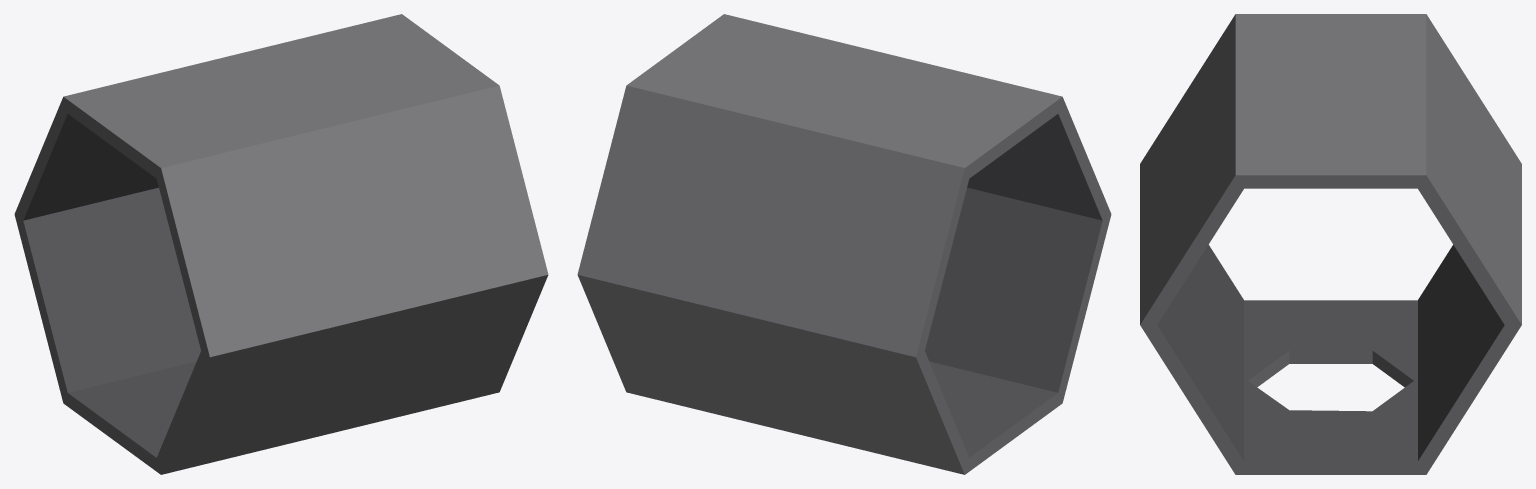
File: Tubo caida.fbx
3 renders of one model, left to right at view 1: azimuth 30°, elevation 25°; view 2: azimuth 150°, elevation 25°; view 3: azimuth 270°, elevation 25°, orthographic. The views are drawn at different scales.
Visible parts, largest first — view 1: pCylinder8; view 2: pCylinder8; view 3: pCylinder8.
Part boxes in pixels (x1,y1,x2,y2): pCylinder8: [14, 14, 548, 474]; pCylinder8: [577, 14, 1111, 474]; pCylinder8: [1140, 14, 1521, 474].
Size of the model in its own units: 4.69 by 4.06 by 4.69.
